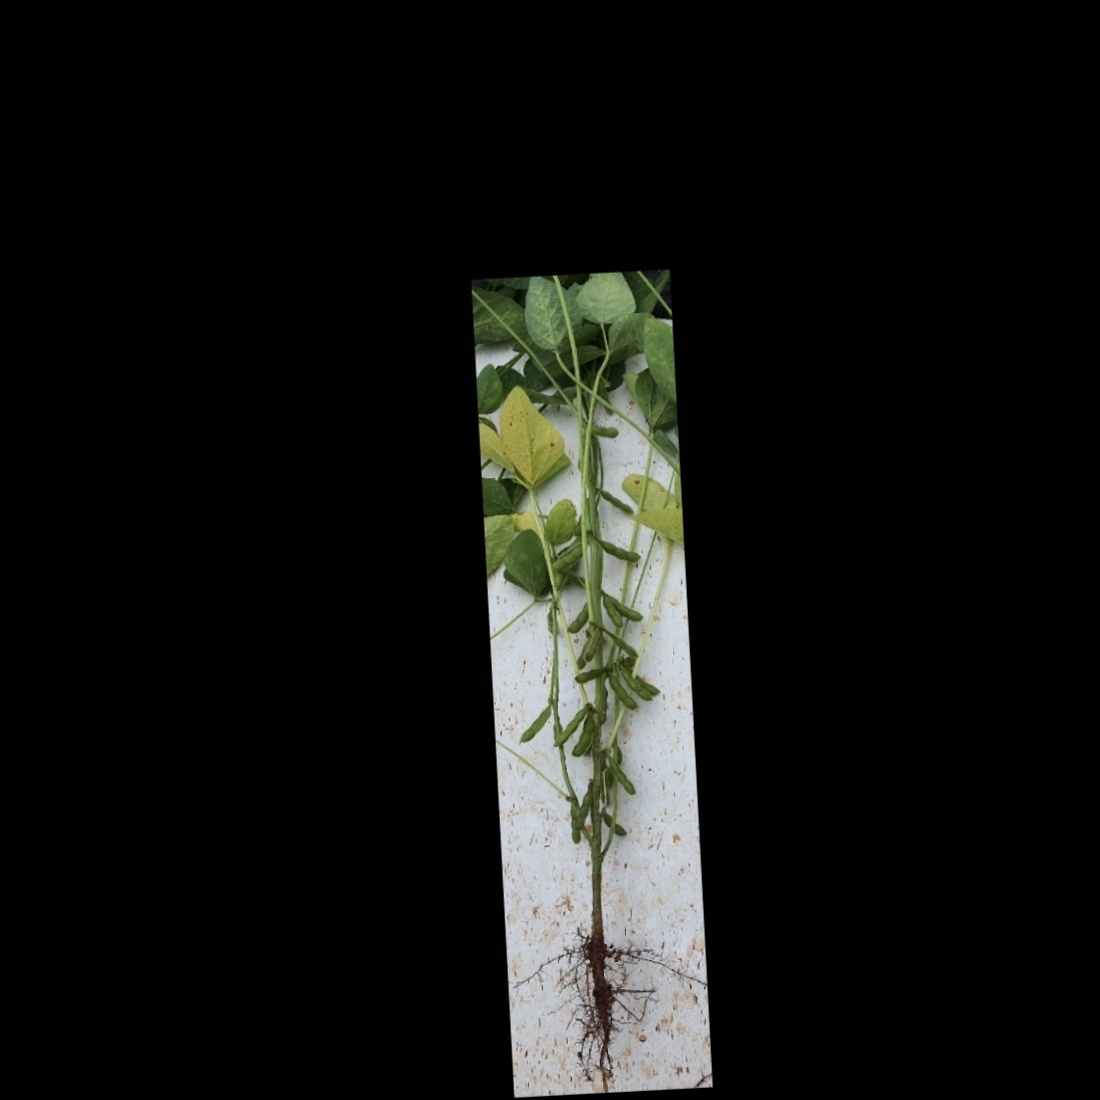pod: (590, 531, 644, 566), (590, 480, 639, 517), (516, 700, 555, 744), (545, 705, 586, 746), (599, 627, 641, 660), (606, 752, 637, 797), (570, 712, 599, 757), (606, 672, 637, 714), (563, 602, 594, 634), (602, 808, 629, 840), (584, 419, 620, 441), (572, 664, 608, 684), (568, 802, 582, 847)
soy: (491, 305, 690, 1059)
